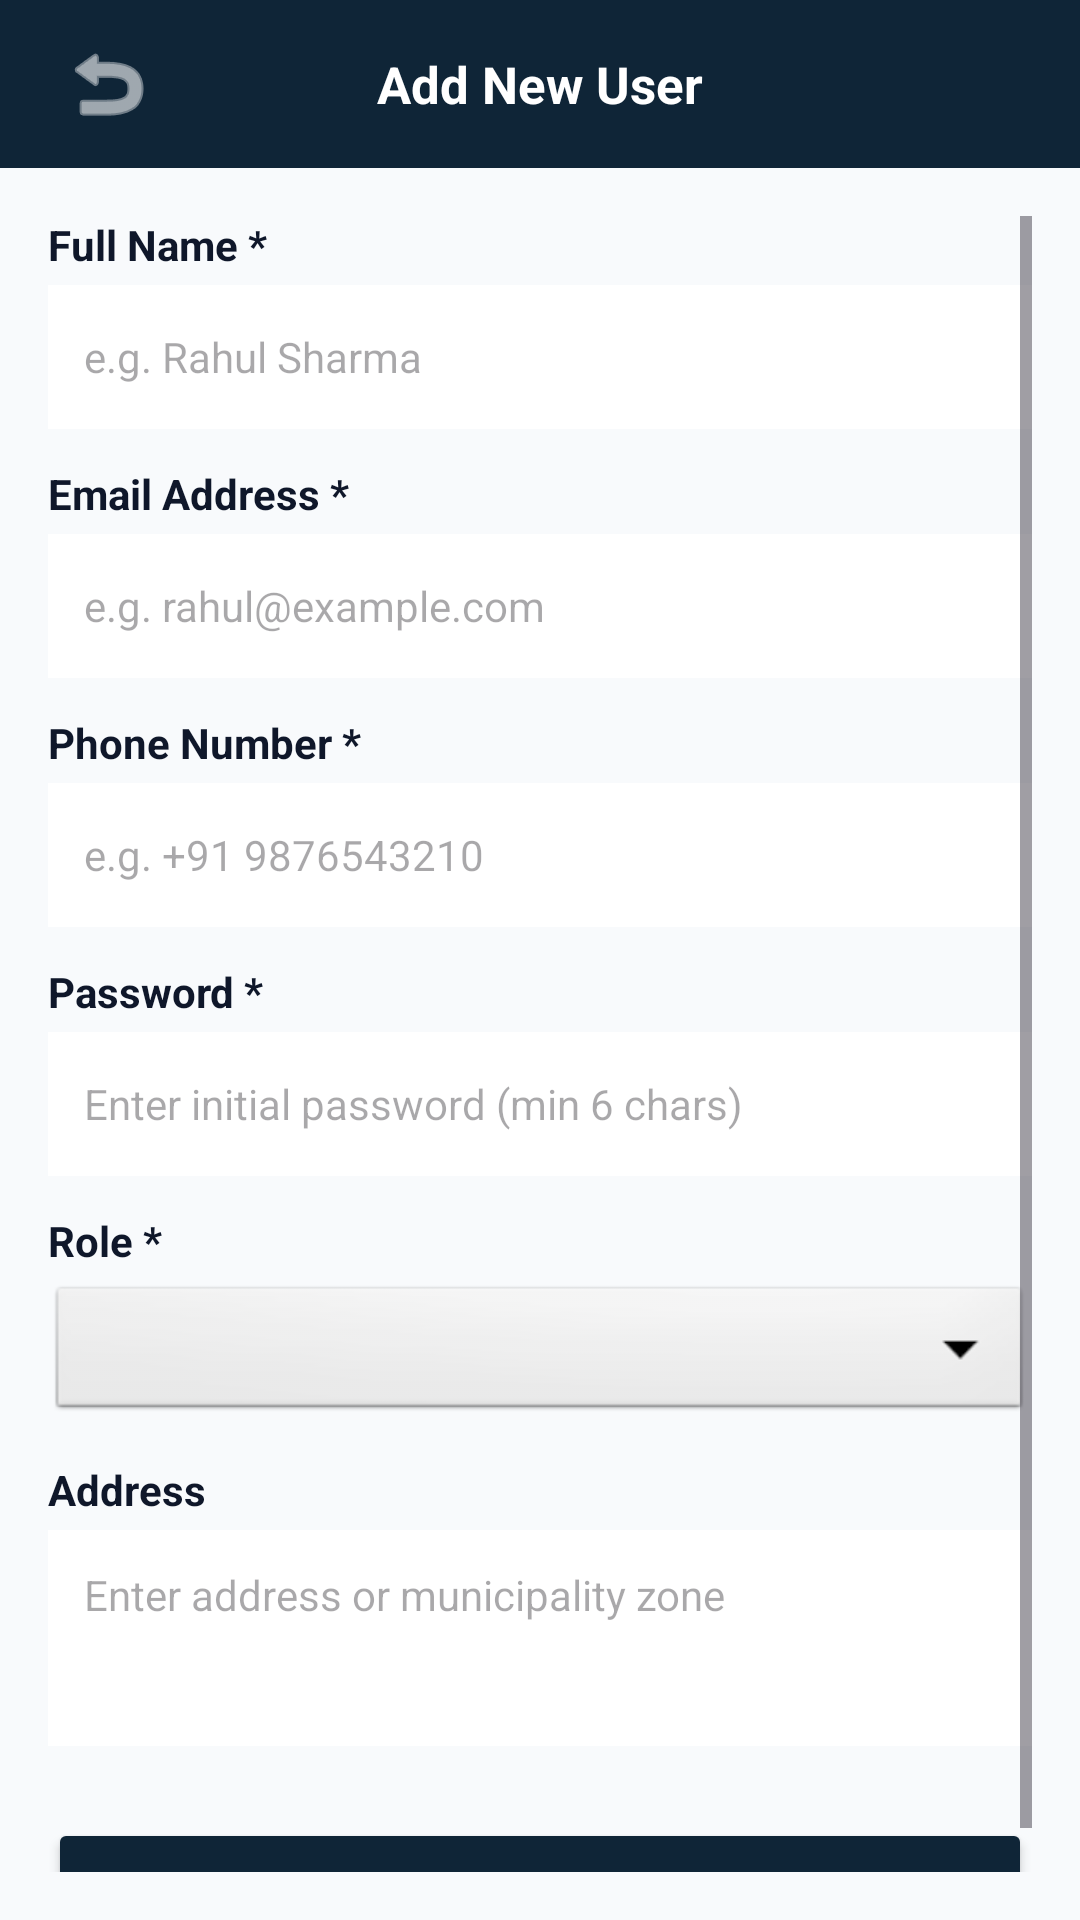

Screen size 1080 × 1920. Icon name, then its box in pixels as (left=x1, top=y1, right=x2, bottom=y2):
Back: (left=75, top=53, right=144, bottom=116)
